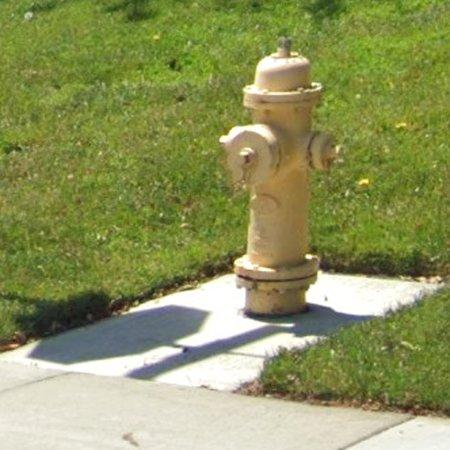a fire hydrant: (220, 39, 337, 316)
